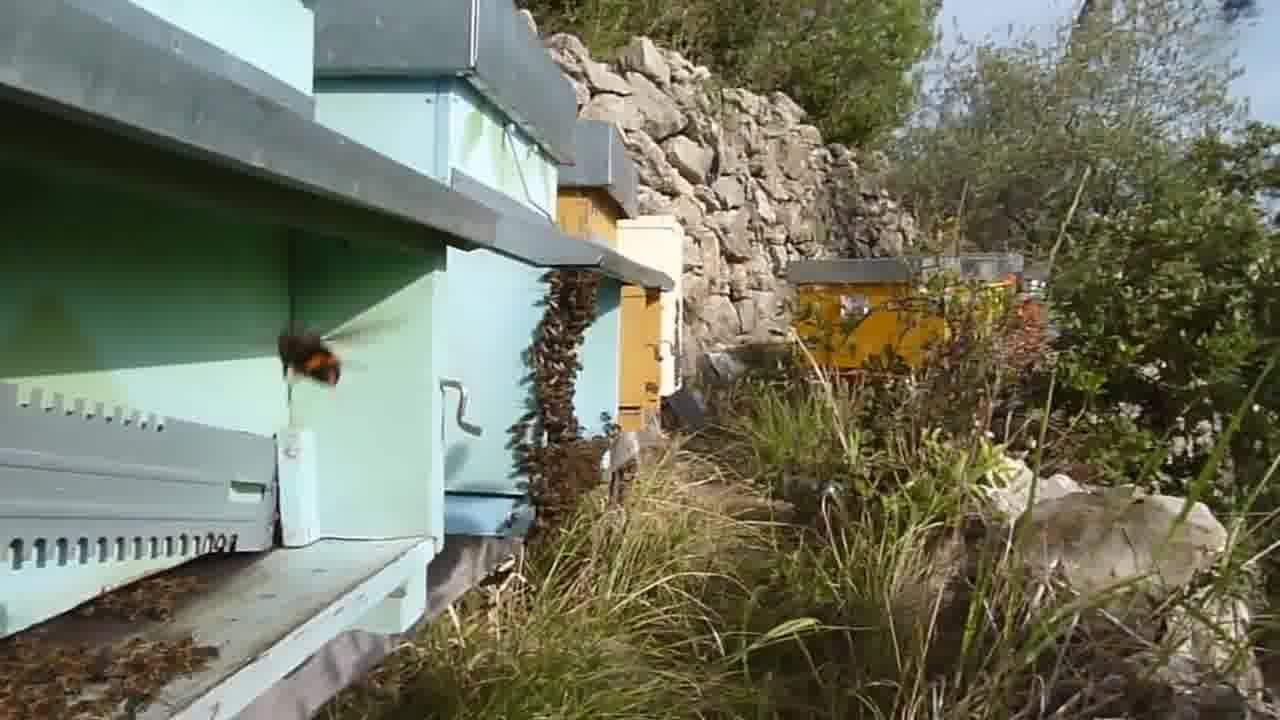bee: (3, 639, 145, 720), (513, 425, 612, 503), (531, 323, 590, 419), (96, 578, 193, 624), (522, 264, 600, 318), (140, 638, 228, 679)
hornet: (270, 323, 354, 384)
